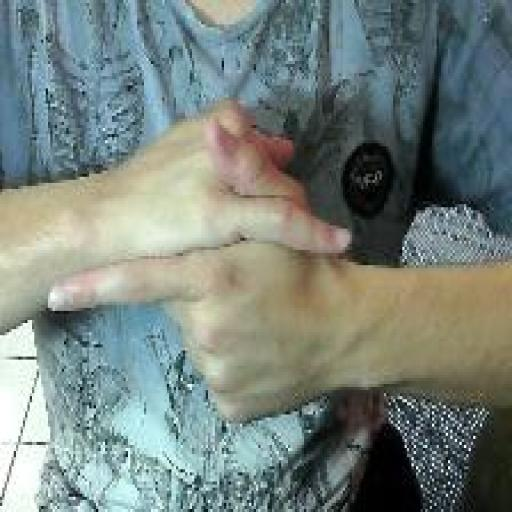U -hare-: (45, 96, 353, 431)
